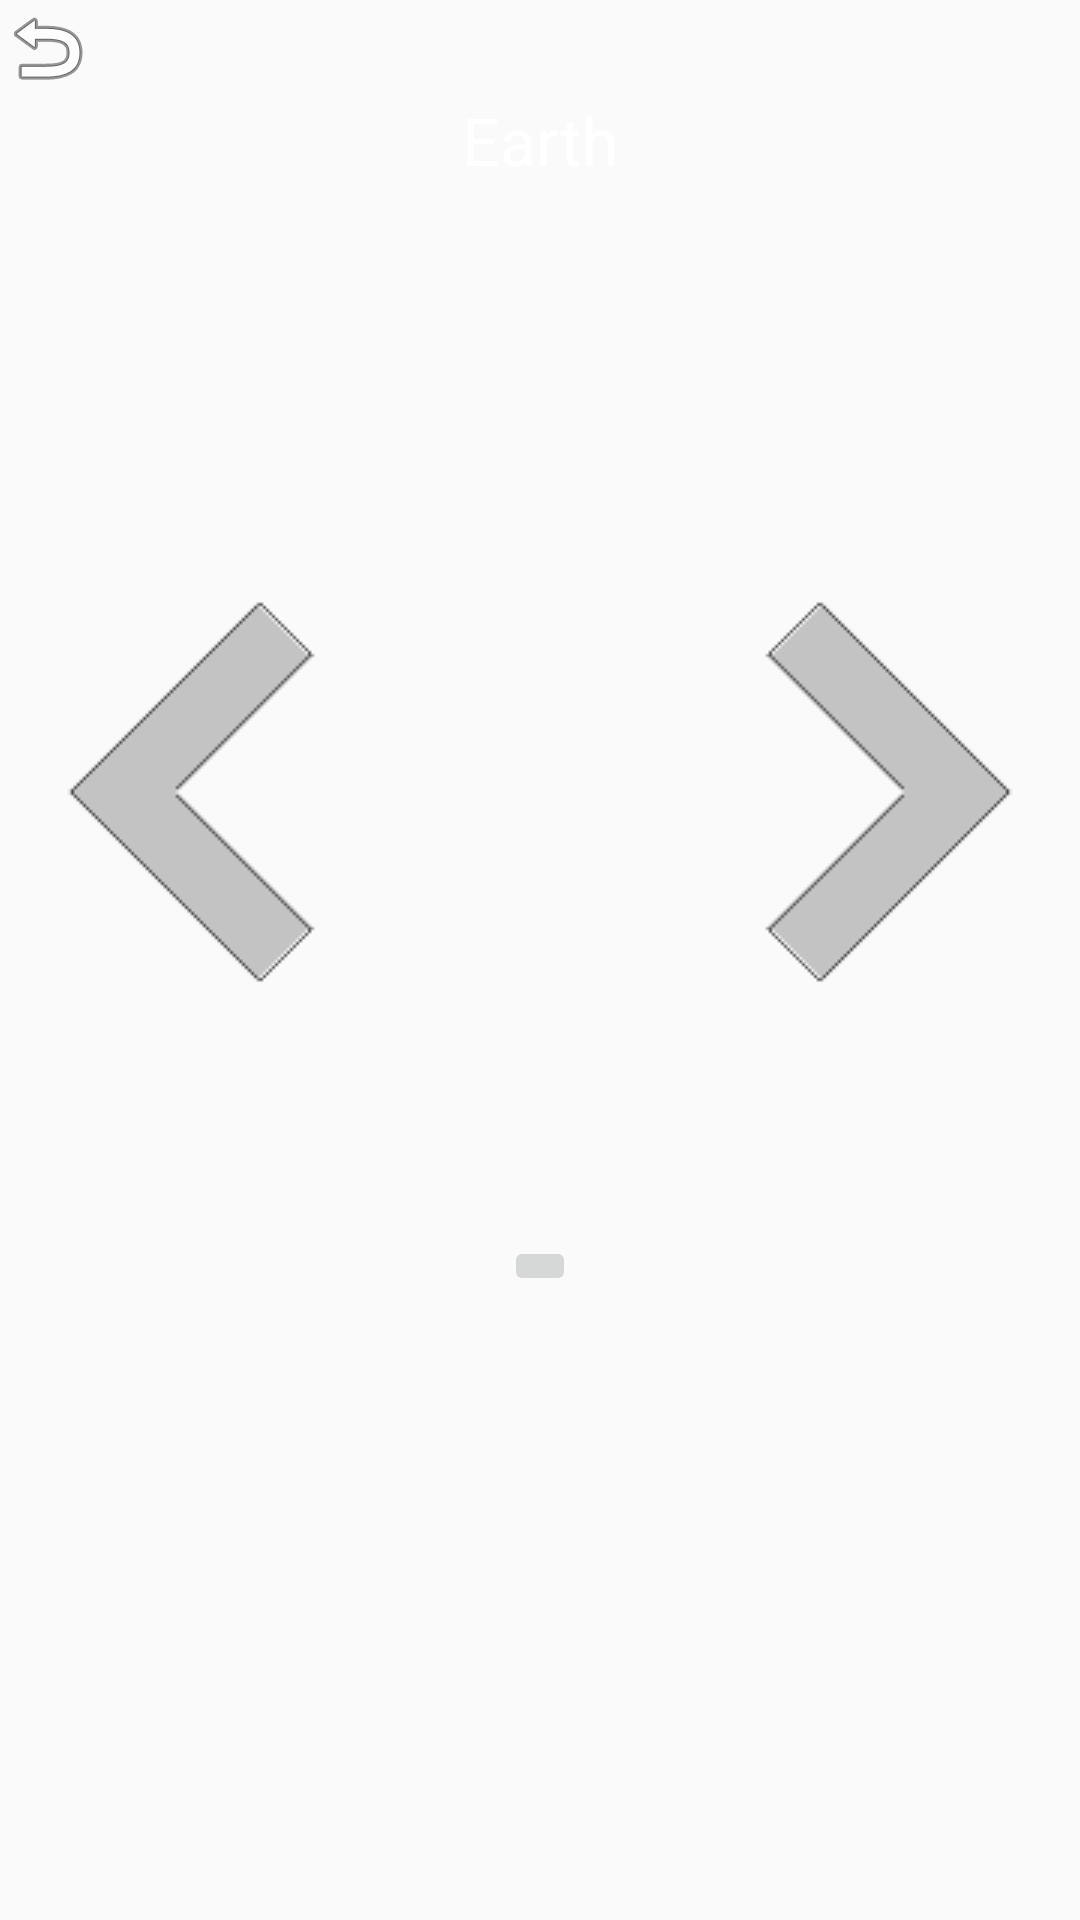

Icons on this 1080px×1920px Android screen, each with its box as (left=x1, top=y1, right=x2, bottom=y2):
Back: (left=14, top=17, right=83, bottom=80)
